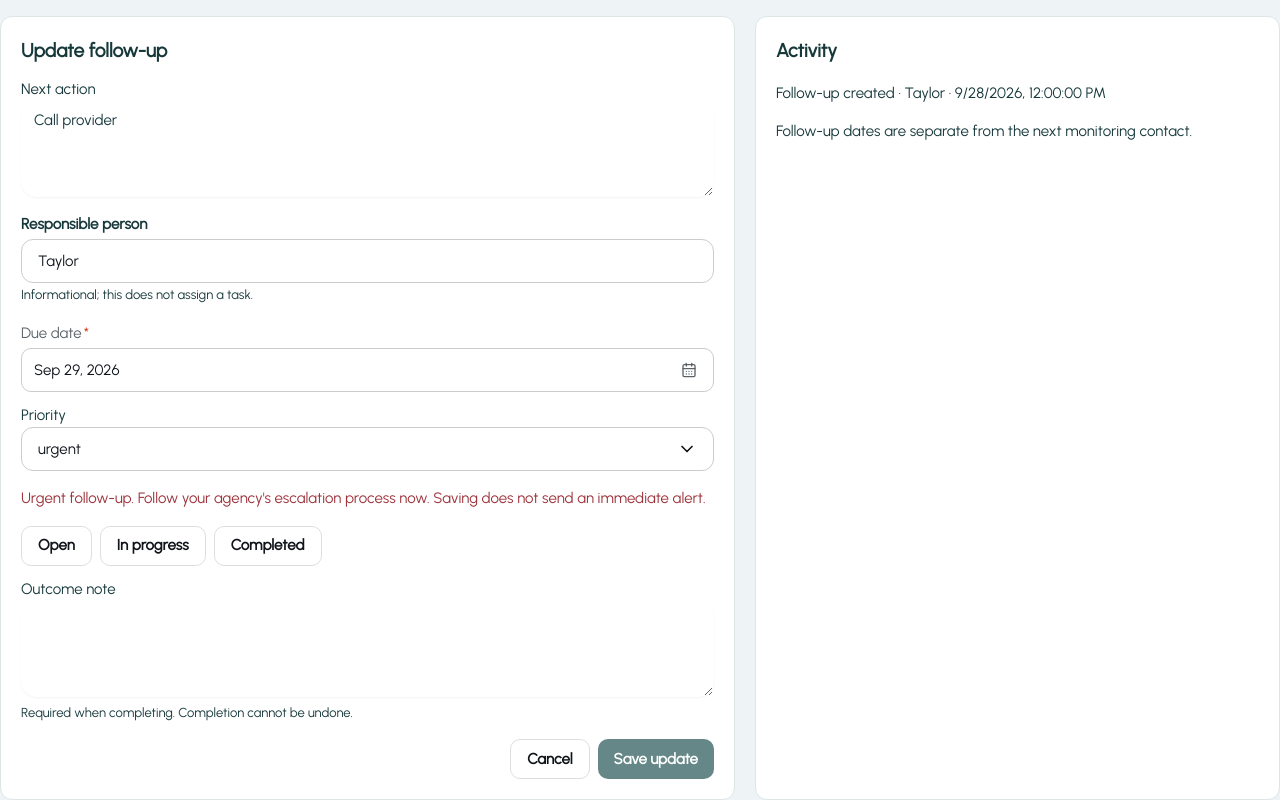
Test case: disables the stale editor if conflict reload fails
(page scrolled)
Click the button "In progress".
click(153, 546)  # box left=100, top=526, right=206, bottom=566
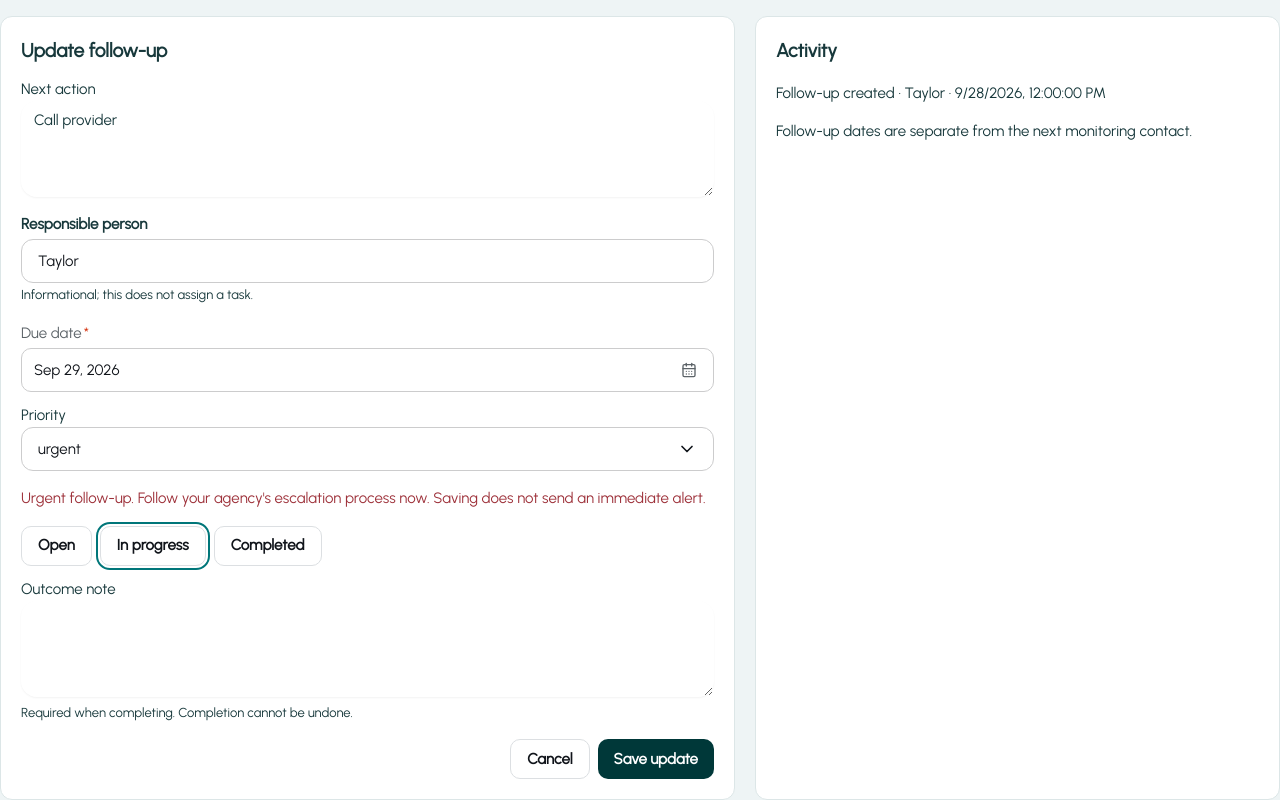
Click the button "Save update".
click(656, 759)  # box left=598, top=739, right=714, bottom=779
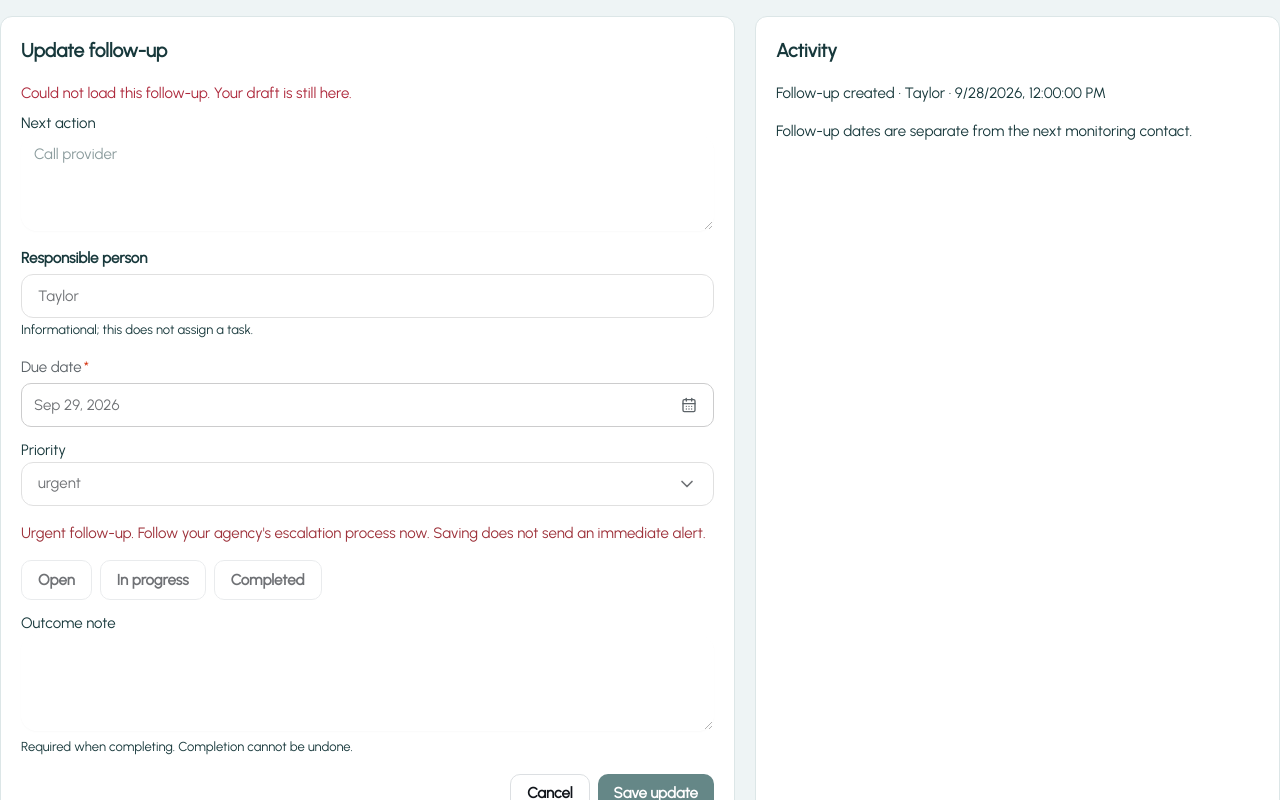
Expected: the text box labelled "Next action" holds "Call provider", left=21, top=135, right=714, bottom=231
Expected: the text "Could not load this follow-up. Your draft is still here." is shown, left=21, top=84, right=352, bottom=102
